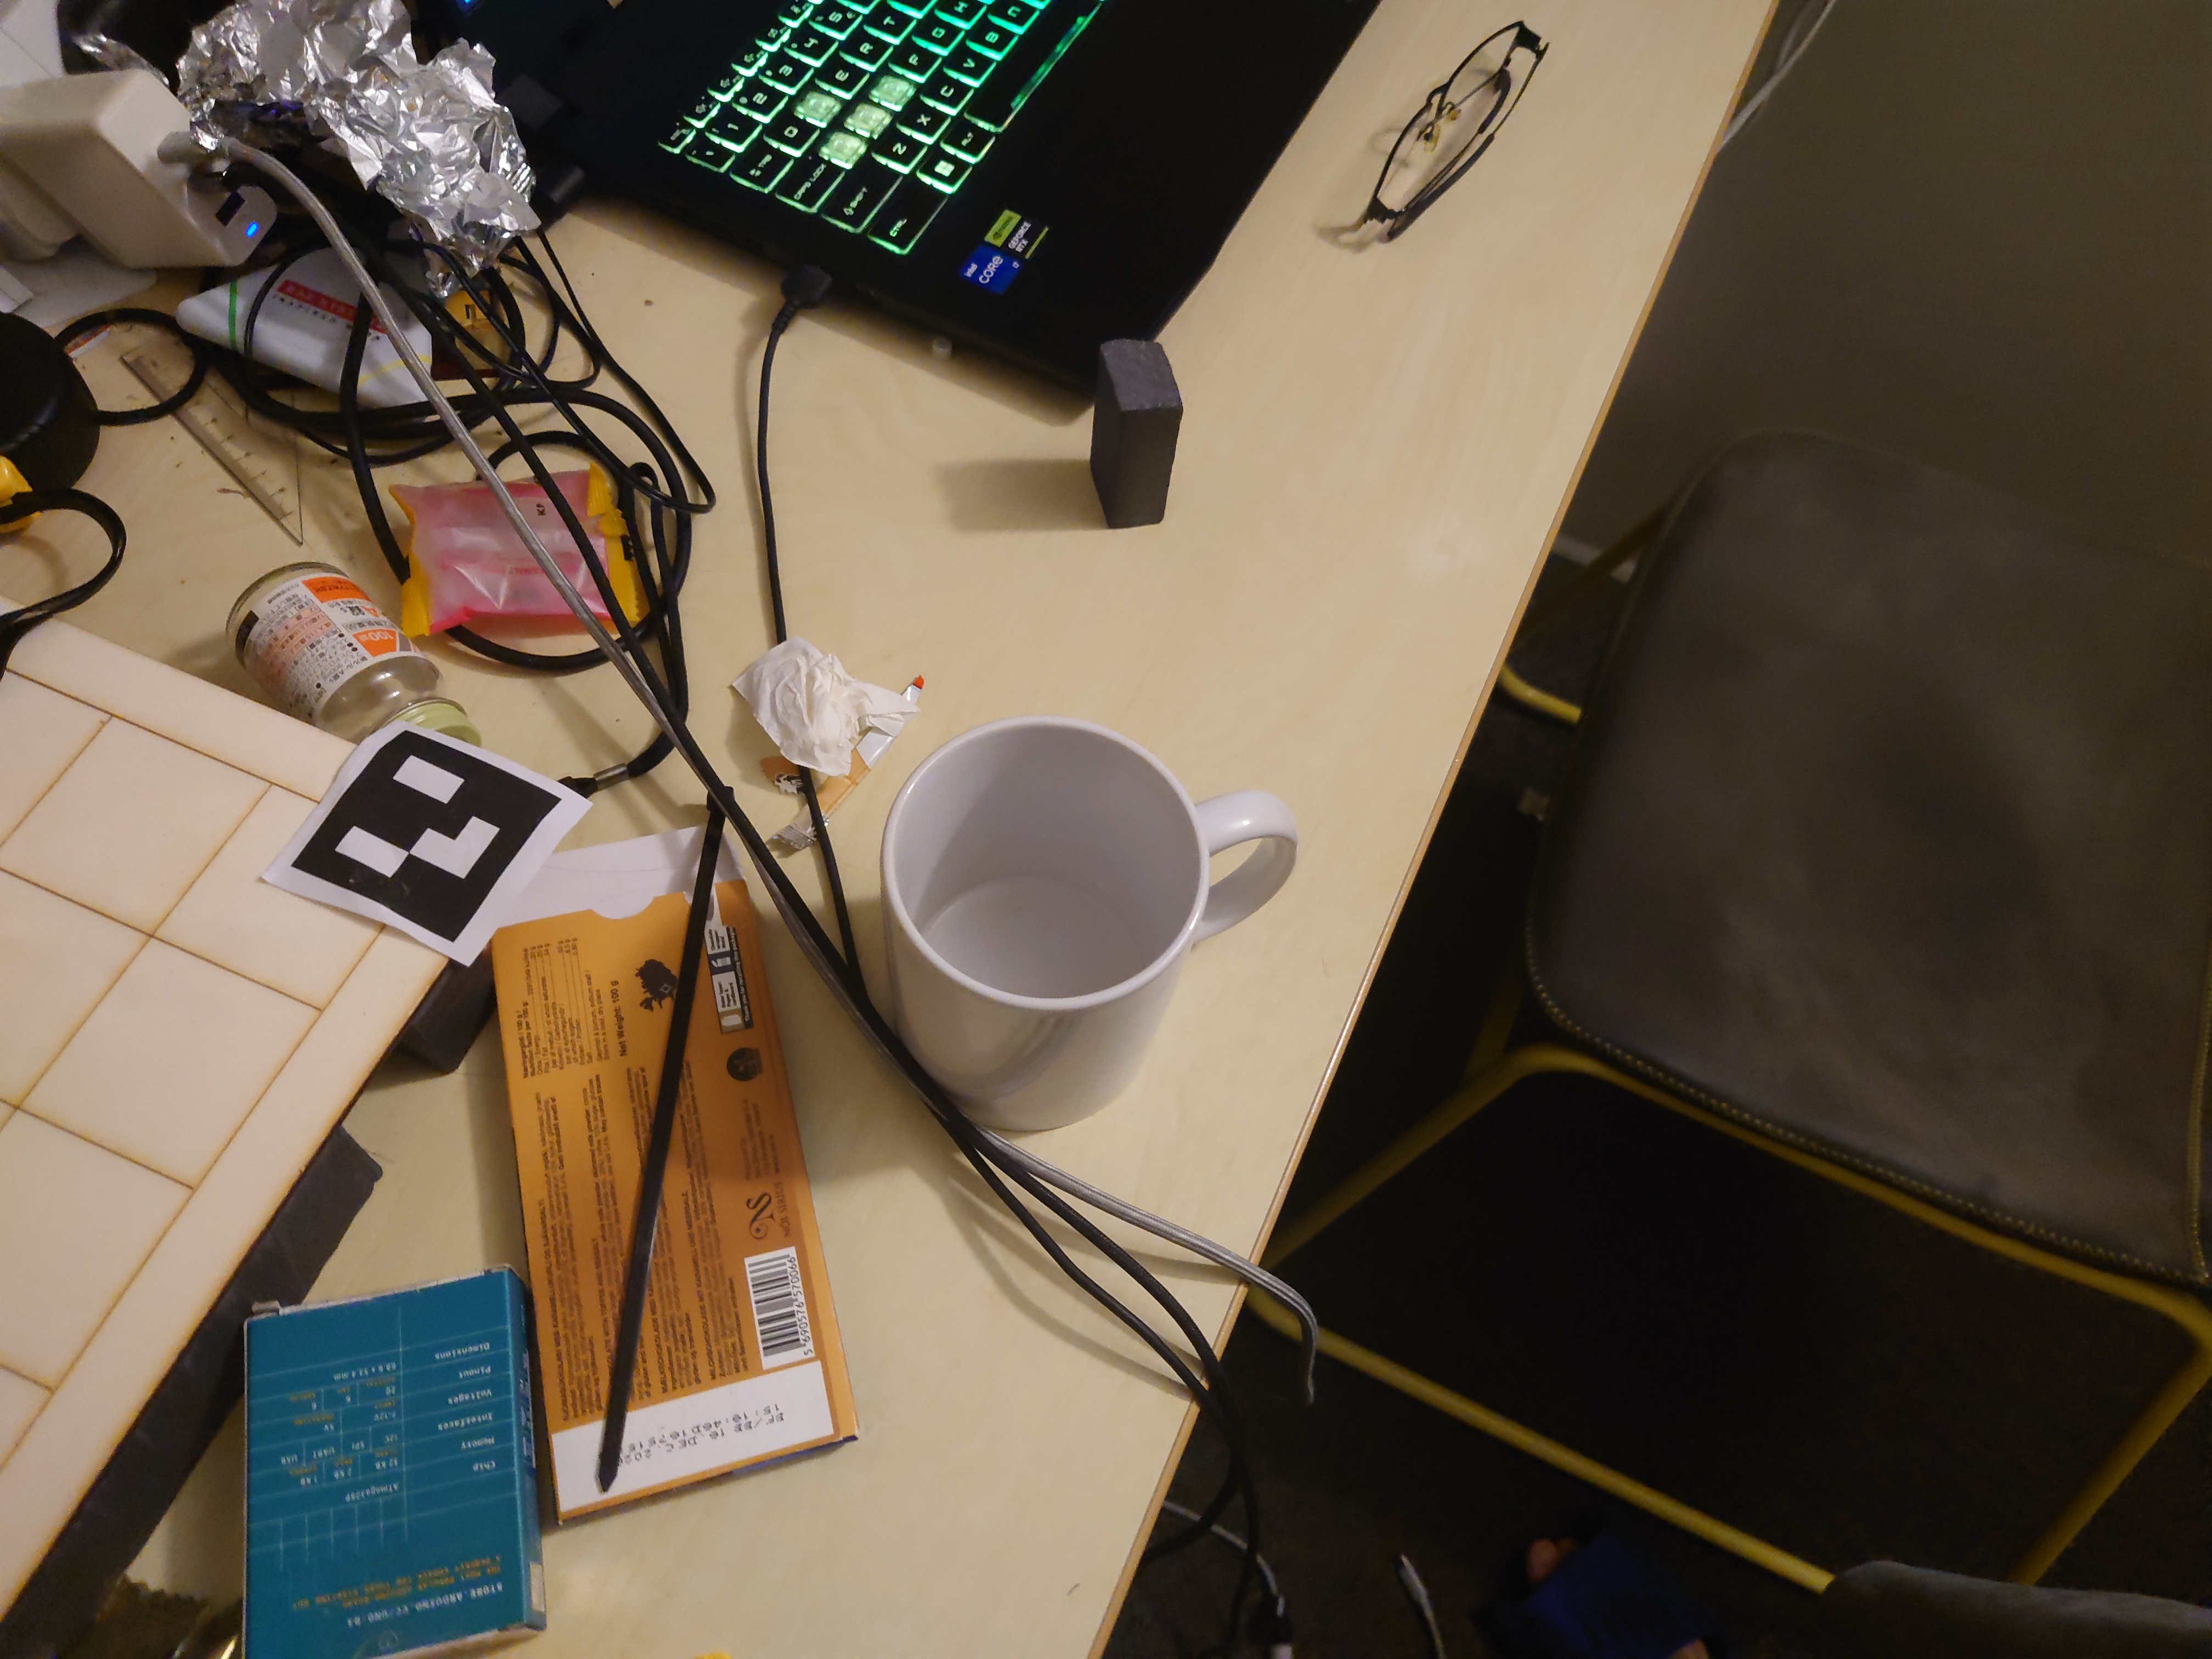cup: (867, 709, 1305, 1133)
target: (1085, 336, 1188, 533)
